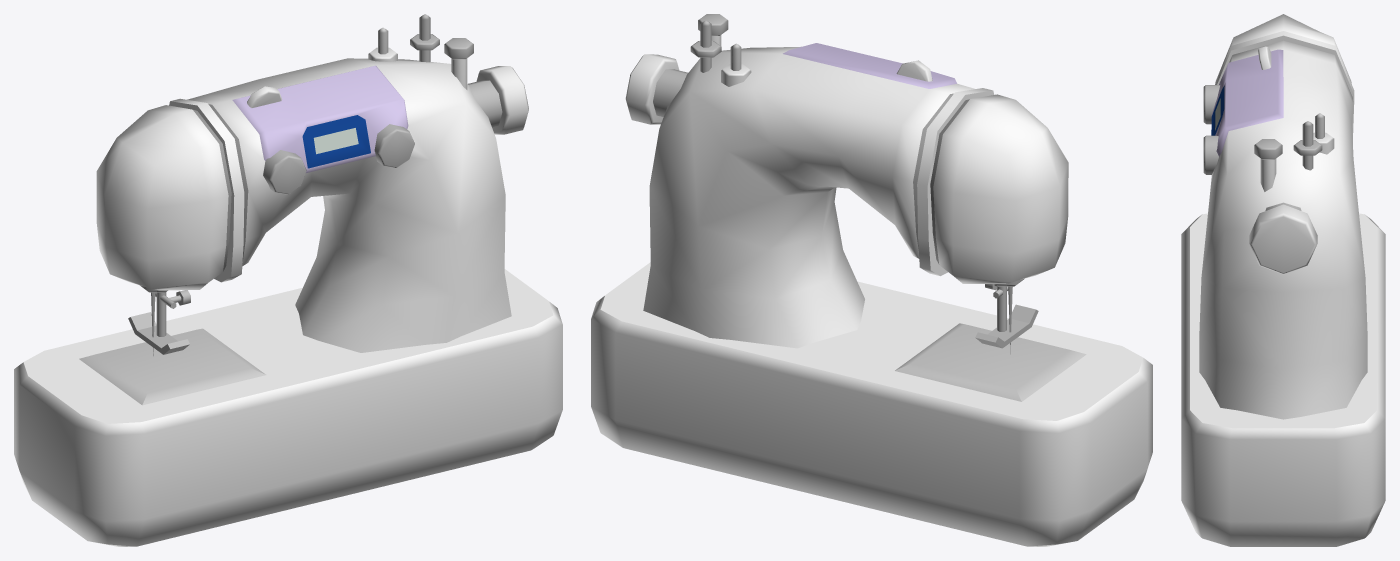
Rendered from electronics_013.fbx.
3 renders of one model, left to right at view 1: azimuth 30°, elevation 25°; view 2: azimuth 150°, elevation 25°; view 3: azimuth 270°, elevation 25°, orthographic. The views are drawn at different scales.
Visible parts, largest first — view 1: electronics_013; view 2: electronics_013; view 3: electronics_013.
Part boxes in pixels (x1,y1,x2,y2): electronics_013: [14, 14, 562, 546]; electronics_013: [591, 14, 1152, 546]; electronics_013: [1181, 14, 1385, 546].
Bounding box in the file's own units: 82.03 × 31.29 × 67.98.
